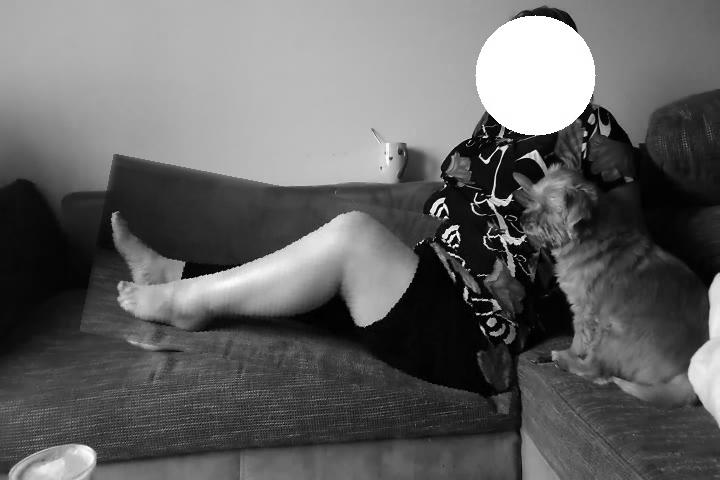lowerbody: (87, 174, 536, 395)
